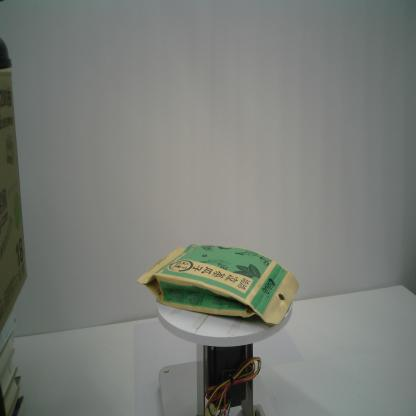Dried Food: (136, 242, 300, 327)
